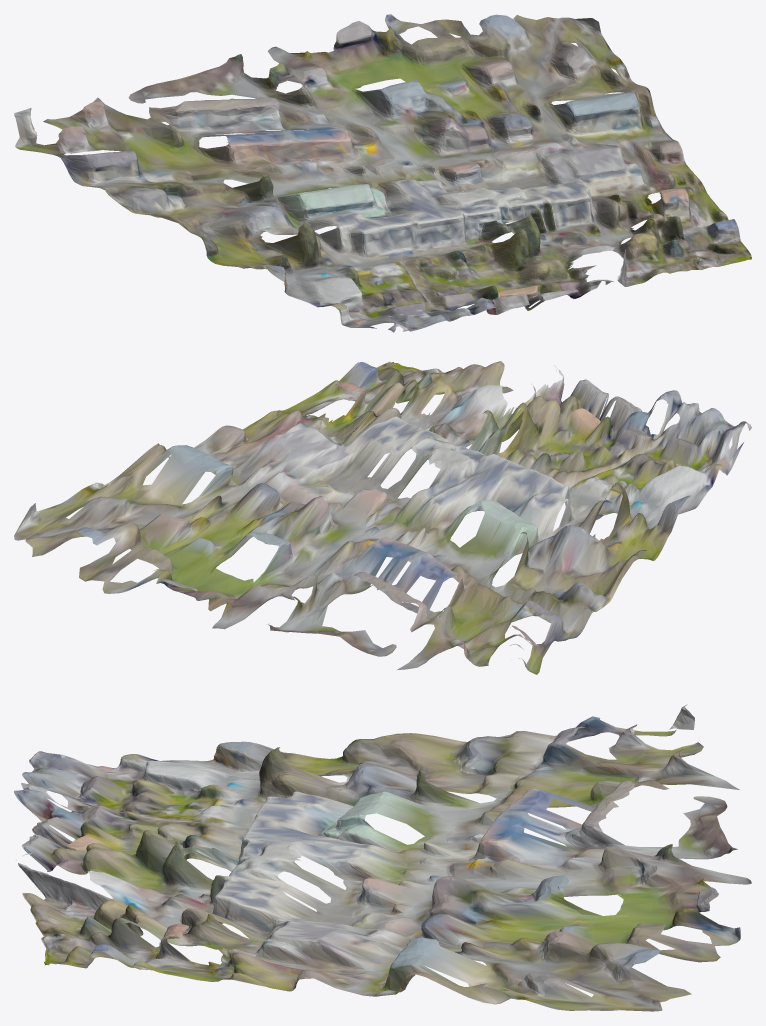
Rendered from render_lod2.glb.
The picture shows the model from 3 angles, top to bottom: view 1: azimuth 30°, elevation 25°; view 2: azimuth 150°, elevation 25°; view 3: azimuth 270°, elevation 25°; orthographic projection. The views are drawn at different scales.
Visible parts, largest first — view 1: geometry_0; view 2: geometry_0; view 3: geometry_0.
Part boxes in pixels (x1,y1,x2,y2): geometry_0: (14, 14, 751, 332); geometry_0: (14, 361, 751, 674); geometry_0: (14, 704, 751, 1011).
Size of the model in its own units: 13.52 by 1.03 by 14.72.
